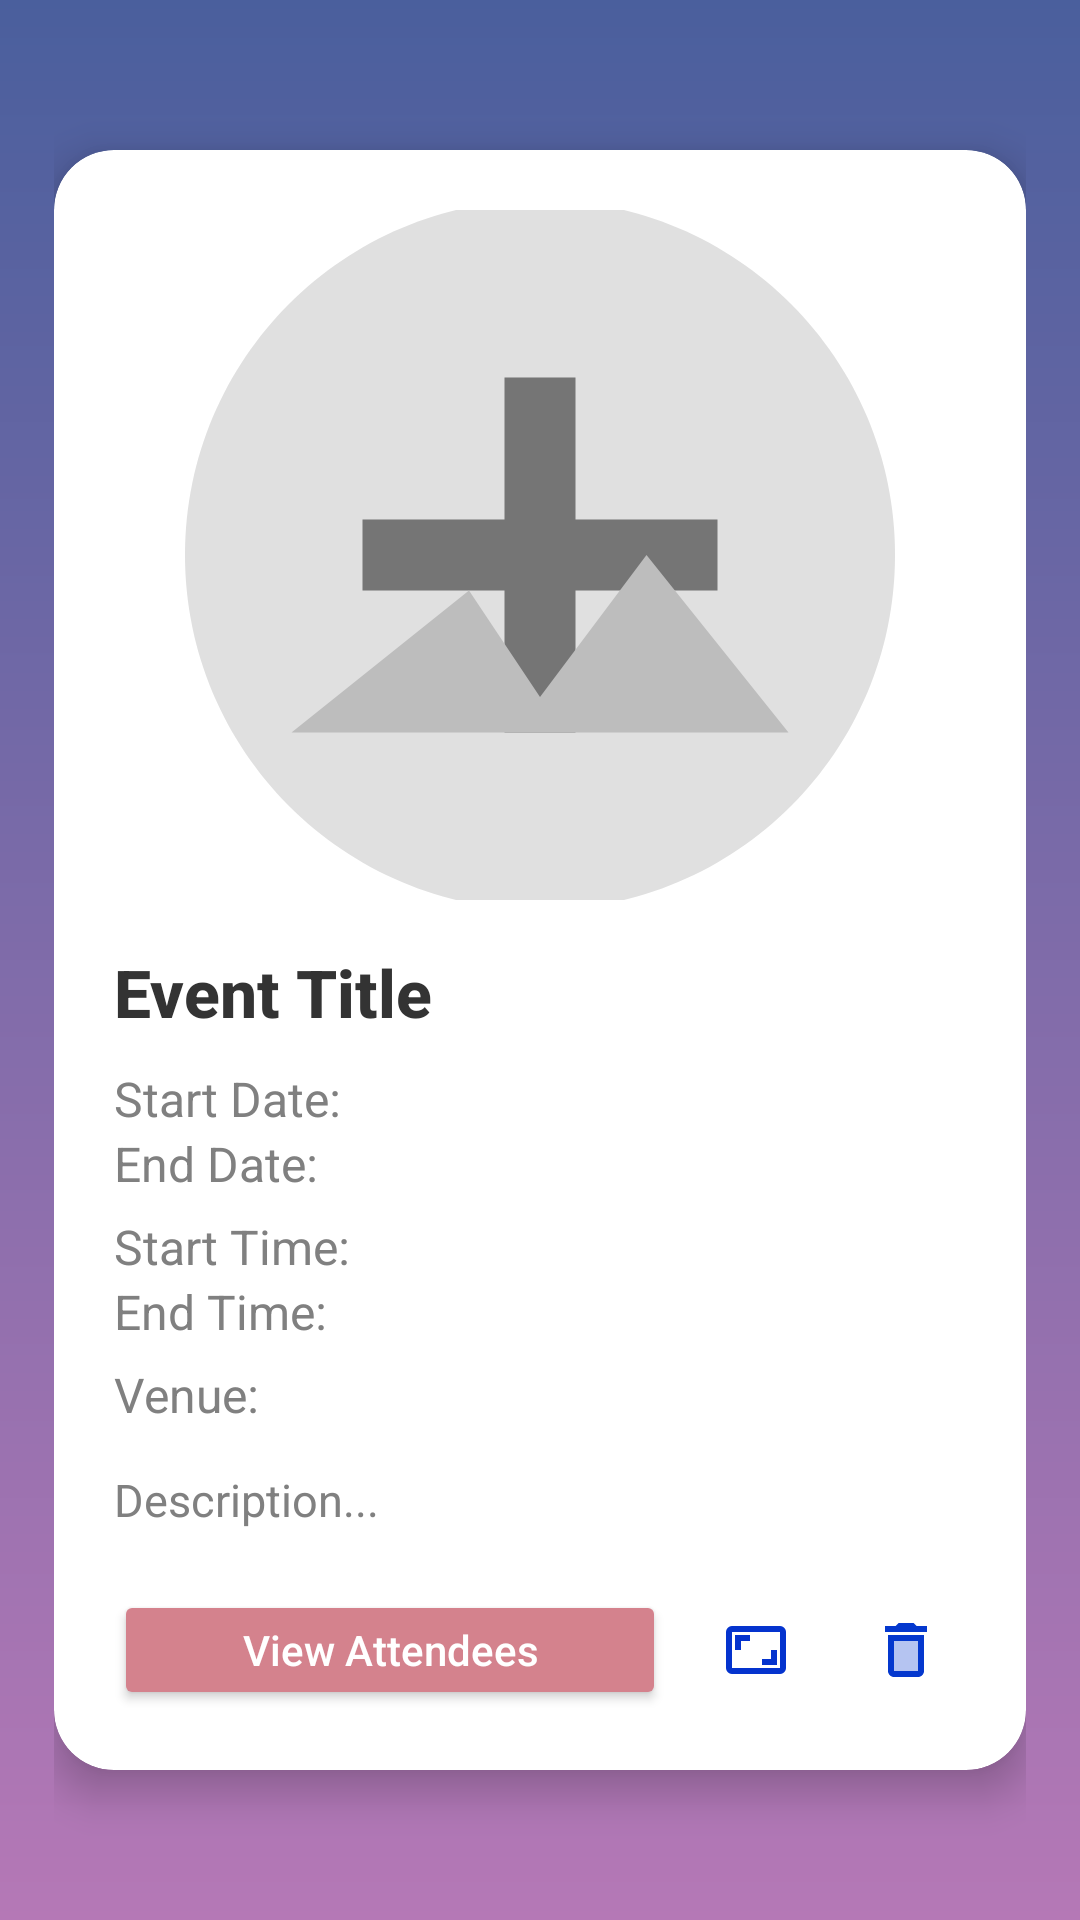

Screen size 1080 x 1920. Icon name, then its center in pixels as point (x, y):
delete: point (906, 1650)
